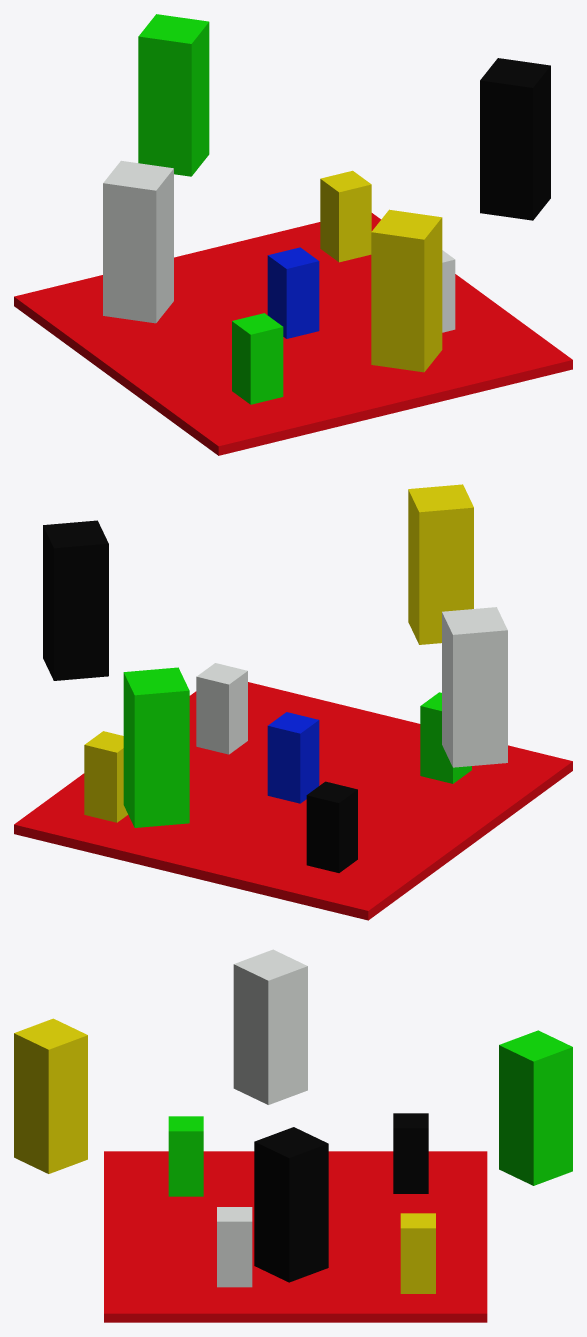
3 renders of one model, top to bottom at view 1: azimuth 30°, elevation 25°; view 2: azimuth 150°, elevation 25°; view 3: azimuth 270°, elevation 25°, orthographic. The views are drawn at different scales.
Parts seen in each view (by area): view 1: Cube, Cube.008, Cube.009, Cube.007, Cube.010, Cube.005, Cube.003, Cube.001, Cube.002; view 2: Cube, Cube.010, Cube.007, Cube.009, Cube.008, Cube.001, Cube.002, Cube.004, Cube.003, Cube.005; view 3: Cube, Cube.009, Cube.007, Cube.010, Cube.008, Cube.003, Cube.004, Cube.005, Cube.002.
Part boxes in pixels (box(x1,y1,x2,y2)): Cube: box(14, 213, 572, 455); Cube.008: box(371, 209, 442, 372); Cube.009: box(480, 58, 550, 220); Cube.007: box(103, 160, 173, 323); Cube.010: box(138, 14, 209, 176); Cube.005: box(232, 313, 283, 404); Cube.003: box(320, 170, 371, 262); Cube.001: box(267, 247, 319, 338); Cube.002: box(442, 250, 455, 332); Cube: box(14, 682, 572, 920); Cube.010: box(123, 667, 189, 827); Cube.007: box(442, 607, 507, 767); Cube.009: box(43, 520, 108, 680); Cube.008: box(408, 484, 473, 644); Cube.001: box(267, 712, 319, 803); Cube.002: box(196, 663, 247, 754); Cube.004: box(306, 781, 357, 872); Cube.003: box(84, 731, 127, 822); Cube.005: box(420, 692, 471, 783); Cube: box(104, 1151, 487, 1322); Cube.009: box(254, 1127, 328, 1282); Cube.007: box(233, 949, 307, 1104); Cube.010: box(499, 1030, 572, 1185); Cube.008: box(14, 1018, 87, 1173); Cube.003: box(400, 1213, 435, 1293); Cube.004: box(393, 1113, 428, 1193); Cube.005: box(168, 1116, 203, 1196); Cube.002: box(217, 1207, 252, 1287).
Size of the model in its own units: 28 by 13.03 by 31.68.
